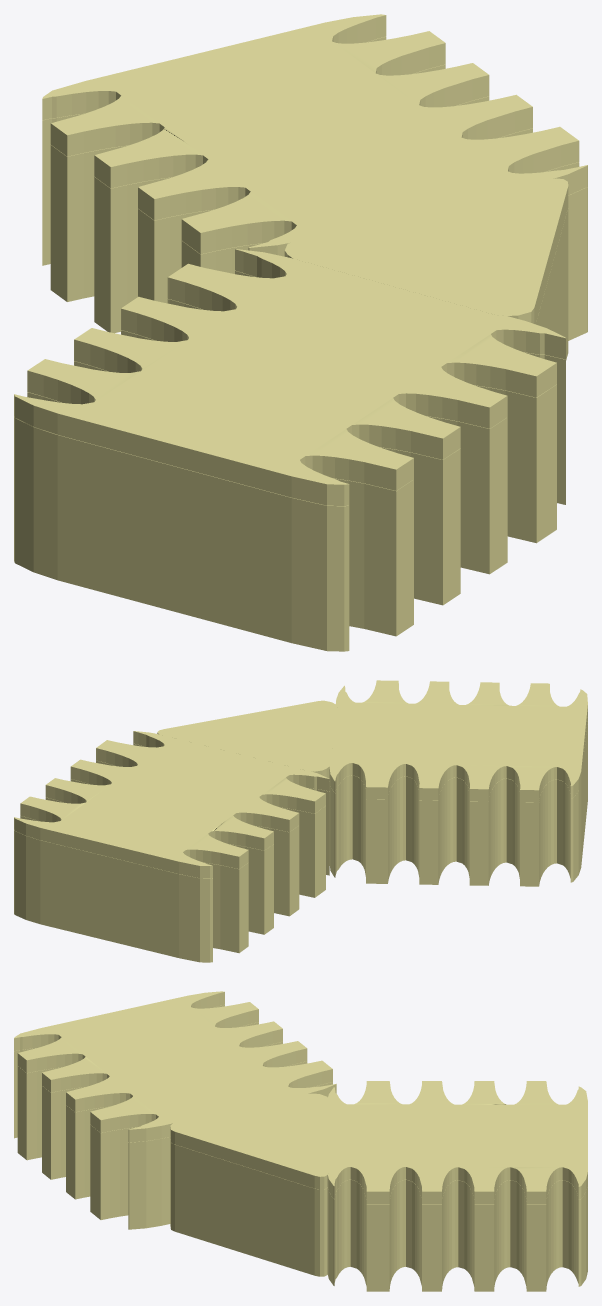
File: Platforma_.fbx
The picture shows the model from 3 angles, top to bottom: view 1: azimuth 30°, elevation 25°; view 2: azimuth 150°, elevation 25°; view 3: azimuth 270°, elevation 25°; orthographic projection. The views are drawn at different scales.
Visible parts, largest first — view 1: platforma5, platforma5.005, platforma5.003, platforma5.004; view 2: platforma5, platforma5.003, platforma5.005; view 3: platforma5, platforma5.003, platforma5.005, platforma5.004.
Part boxes in pixels (x1,y1,x2,y2): platforma5: [14, 14, 587, 505]; platforma5.005: [14, 270, 565, 651]; platforma5.003: [42, 36, 587, 340]; platforma5.004: [535, 208, 568, 360]; platforma5: [14, 680, 587, 878]; platforma5.003: [14, 743, 329, 962]; platforma5.005: [329, 718, 587, 886]; platforma5: [14, 991, 587, 1204]; platforma5.003: [327, 1179, 587, 1291]; platforma5.005: [14, 1004, 332, 1229]; platforma5.004: [170, 1139, 327, 1276].
Size of the model in its own units: 2229 by 519 by 2699.
